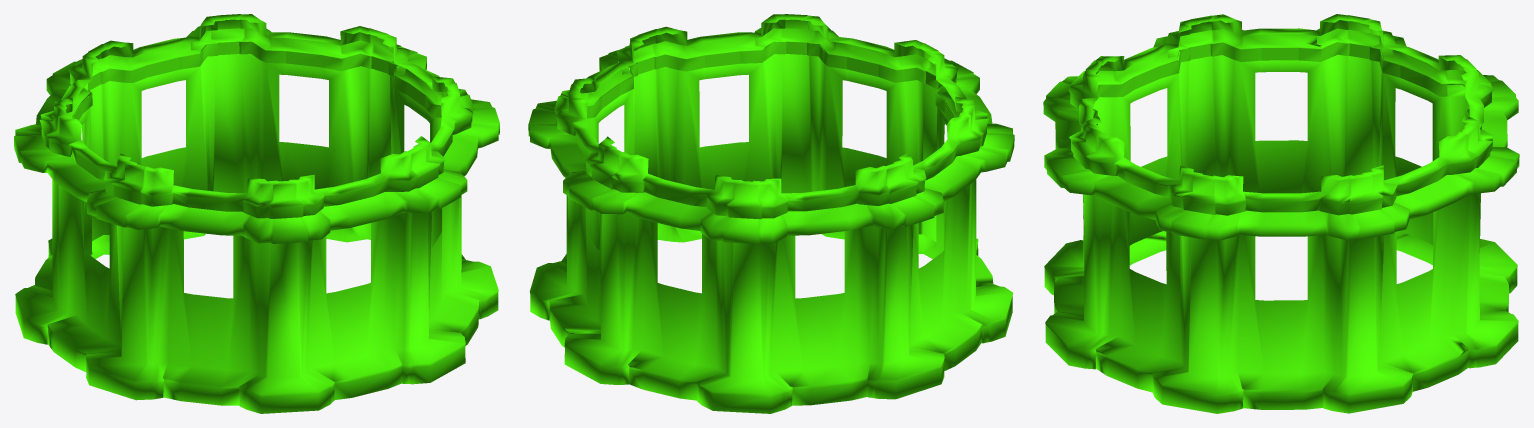
The model's file is extdome_edited2.gltf.
The picture shows the model from 3 angles, left to right: view 1: azimuth 30°, elevation 25°; view 2: azimuth 150°, elevation 25°; view 3: azimuth 270°, elevation 25°; orthographic projection.
Visible parts, largest first — view 1: Sphere001_Material #22_0; view 2: Sphere001_Material #22_0; view 3: Sphere001_Material #22_0.
Part boxes in pixels (<box>): Sphere001_Material #22_0: <box>14,14,499,413</box>; Sphere001_Material #22_0: <box>528,14,1014,413</box>; Sphere001_Material #22_0: <box>1043,14,1519,413</box>.
Bounding box in the file's own units: 144 × 72.06 × 144.
Materials: 1 (1 with a texture image).
